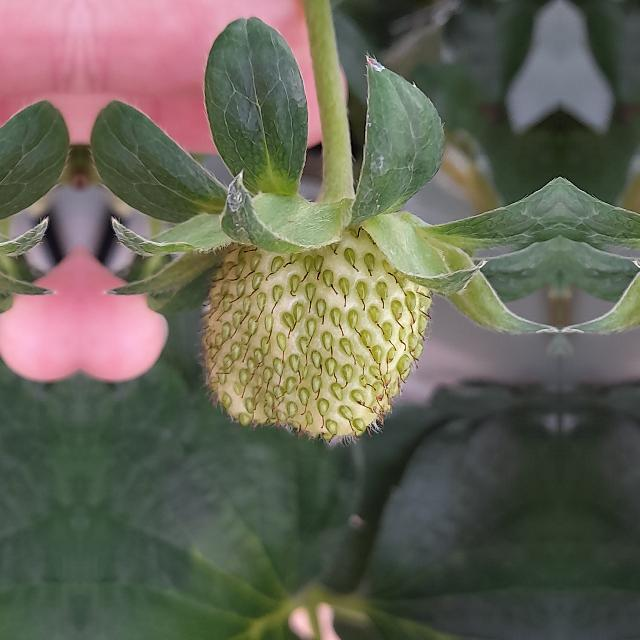Health_25: (195, 208, 437, 447)
